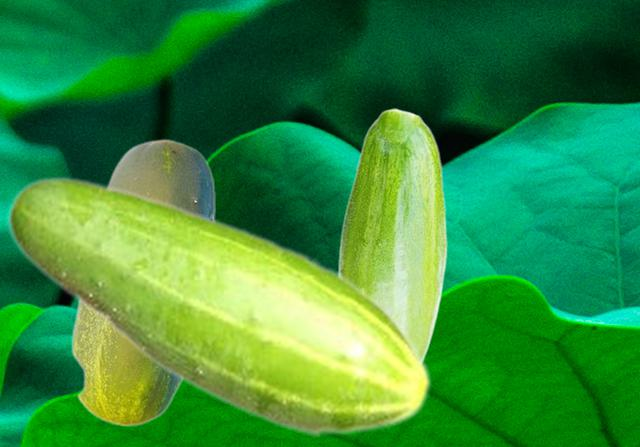cucumber: (6, 175, 432, 438), (70, 138, 214, 426), (336, 108, 446, 360)
